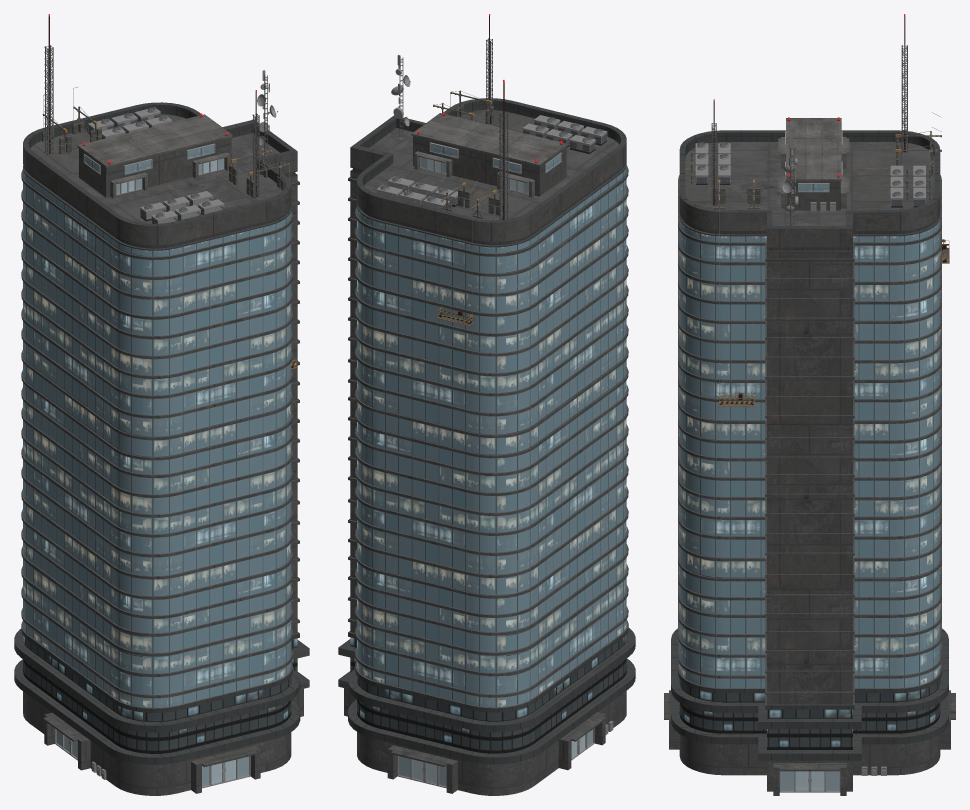
Rendered from GT_MC_Large Building.glb.
3 renders of one model, left to right at view 1: azimuth 30°, elevation 25°; view 2: azimuth 150°, elevation 25°; view 3: azimuth 270°, elevation 25°, orthographic.
Parts seen in each view (by area): view 1: GT_MC_Large Building.008; view 2: GT_MC_Large Building.008; view 3: GT_MC_Large Building.008.
Boxes of the visible parts, x1,y1,x2,y2 form: GT_MC_Large Building.008: [14, 14, 309, 795]; GT_MC_Large Building.008: [338, 14, 635, 795]; GT_MC_Large Building.008: [664, 14, 955, 795].
Bounding box in the file's own units: 37.33 × 108 × 41.29.
Materials: 17 (17 with a texture image).
